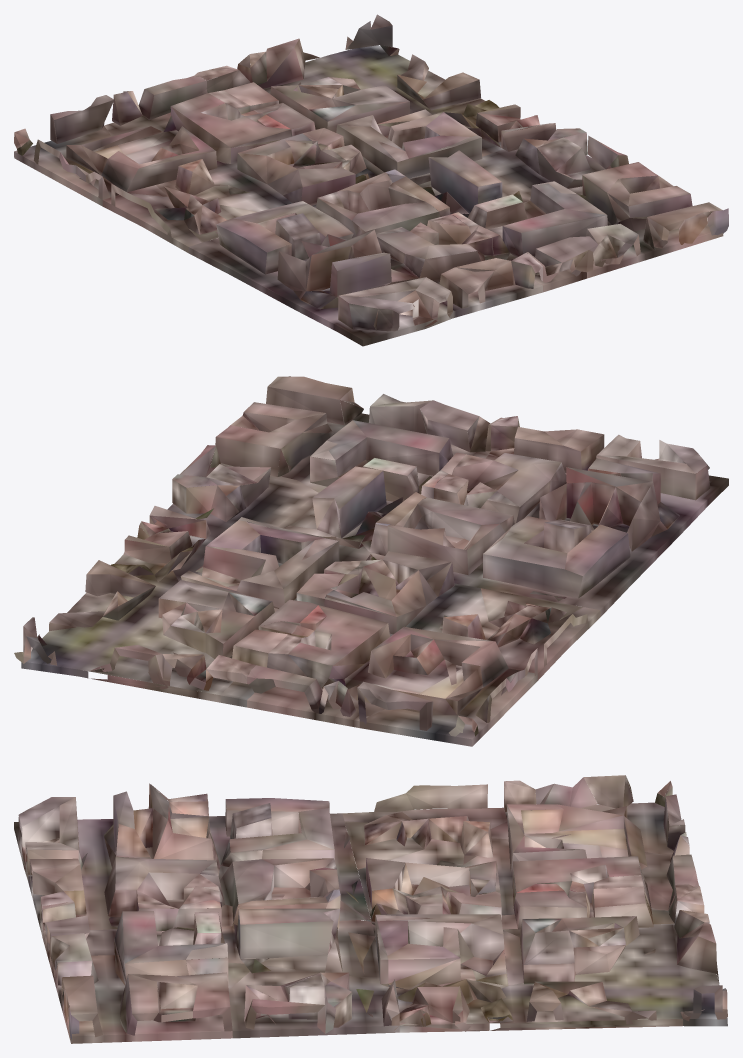
3 renders of one model, top to bottom at view 1: azimuth 30°, elevation 25°; view 2: azimuth 150°, elevation 25°; view 3: azimuth 270°, elevation 25°, orthographic. The views are drawn at different scales.
Parts seen in each view (by area): view 1: Mesh_0; view 2: Mesh_0; view 3: Mesh_0.
Boxes of the visible parts, <box> form: Mesh_0: <box>14,14,728,346</box>; Mesh_0: <box>14,376,728,746</box>; Mesh_0: <box>14,775,727,1043</box>.
Bounding box in the file's own units: 540 × 71.38 × 660.
Materials: 2 (2 with a texture image).
